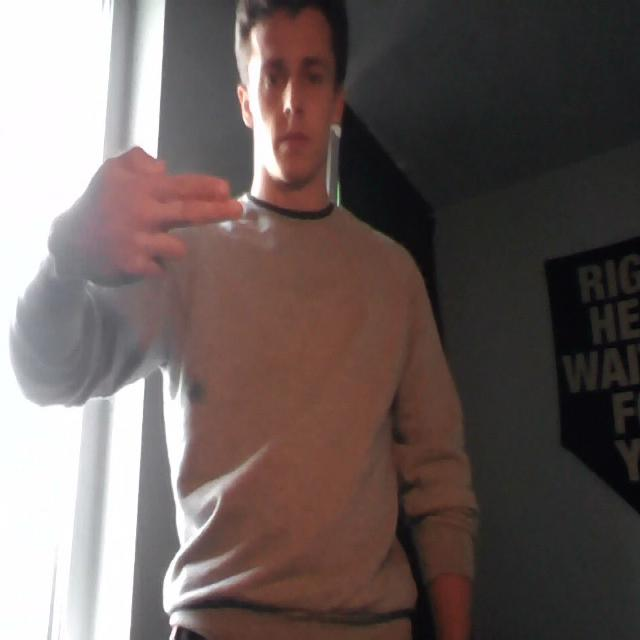right: (48, 140, 245, 301)
